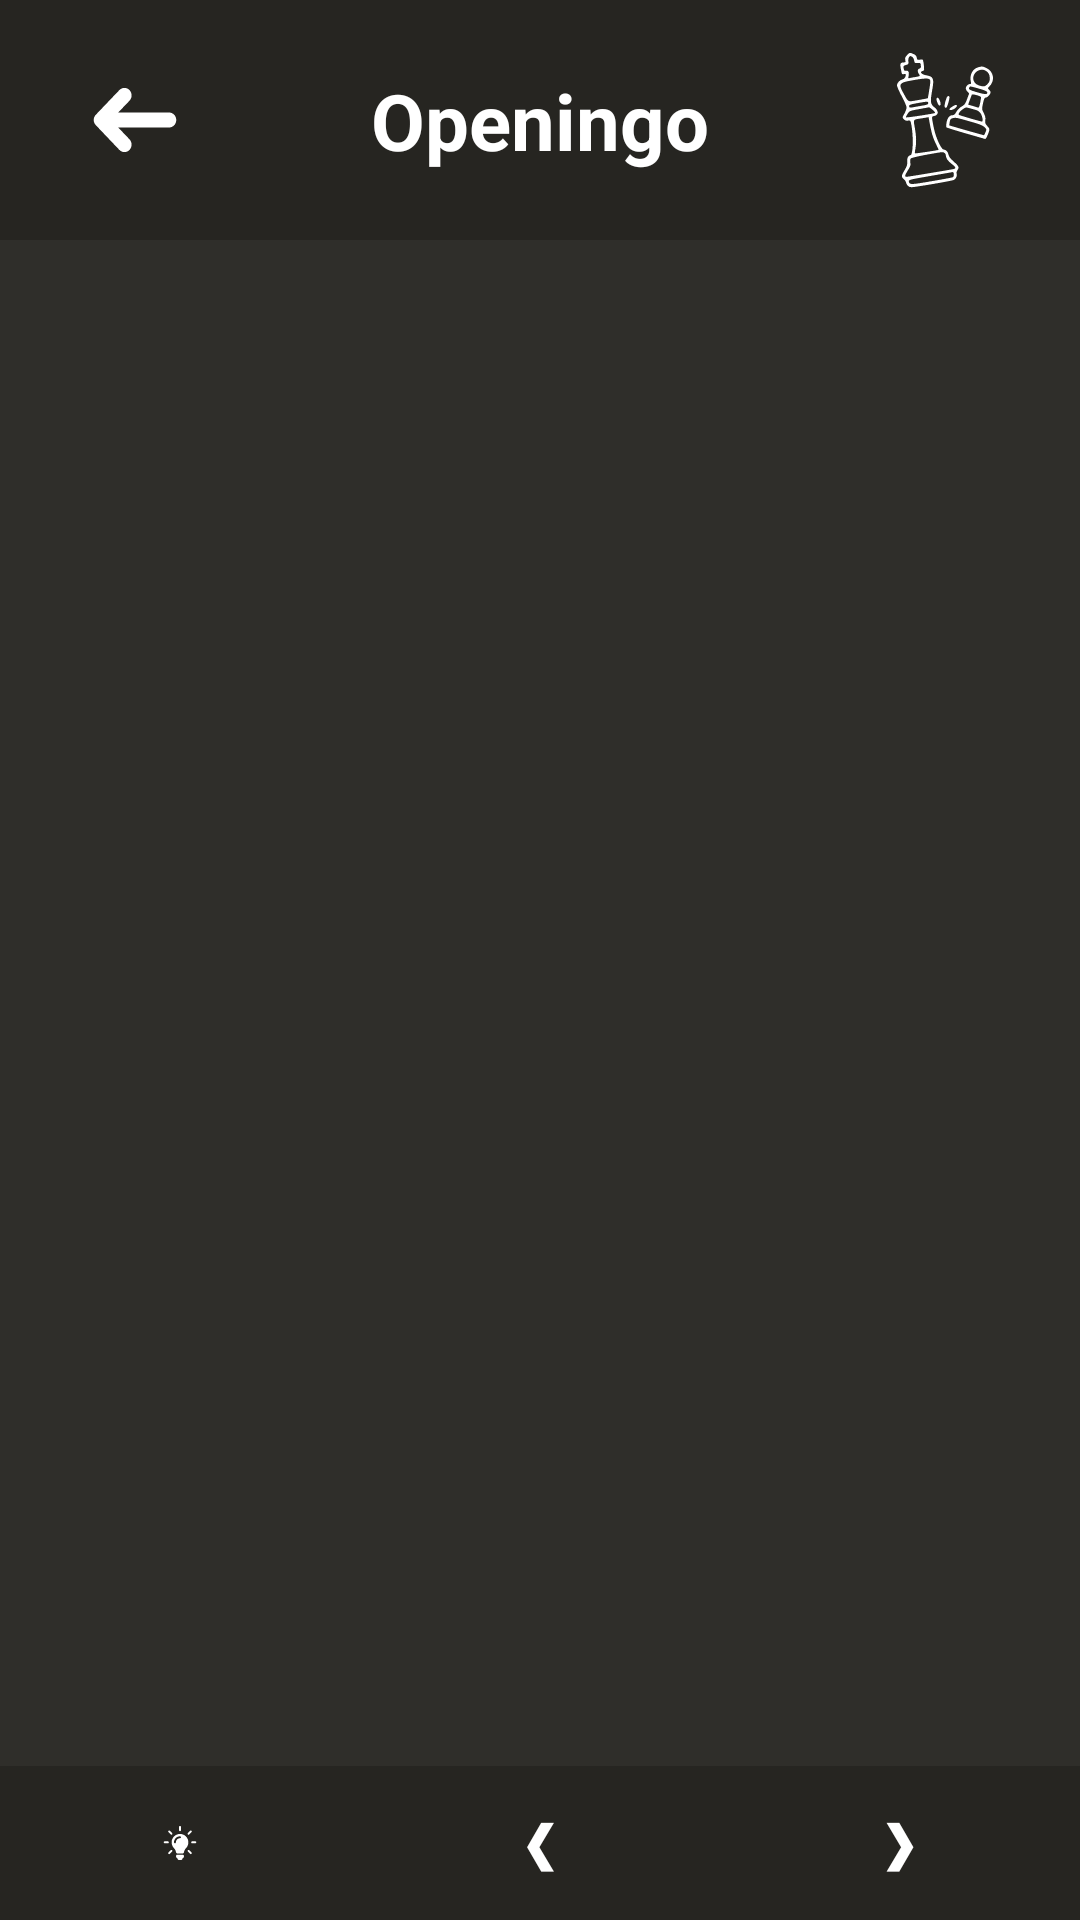

Where icons sit on this 1080 × 1920 app screen, as bbox=[x1, y1, x2, y2]:
Back Button: bbox=[93, 88, 177, 152]
Hint: bbox=[163, 1826, 197, 1860]
